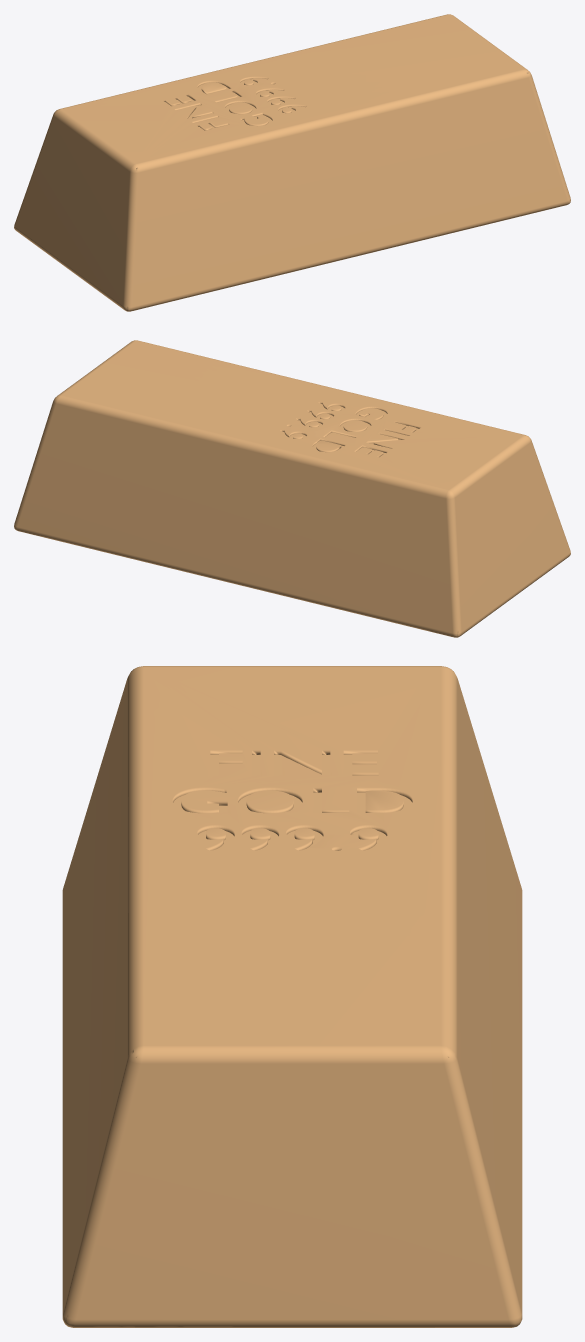
Rendered from Gold-Brick.glb.
3 views of the same model, one above another, from view 1: azimuth 30°, elevation 25°; view 2: azimuth 150°, elevation 25°; view 3: azimuth 270°, elevation 25° (orthographic). The views are drawn at different scales.
Parts seen in each view (by area): view 1: Gold Bar_Baked; view 2: Gold Bar_Baked; view 3: Gold Bar_Baked.
Boxes of the visible parts, bbox=[...] form: Gold Bar_Baked: bbox=[14, 14, 570, 311]; Gold Bar_Baked: bbox=[14, 340, 570, 637]; Gold Bar_Baked: bbox=[62, 666, 522, 1327].
Size of the model in its own units: 1.96 by 0.5375 by 0.8722.
Materials: 1 (1 with a texture image).
